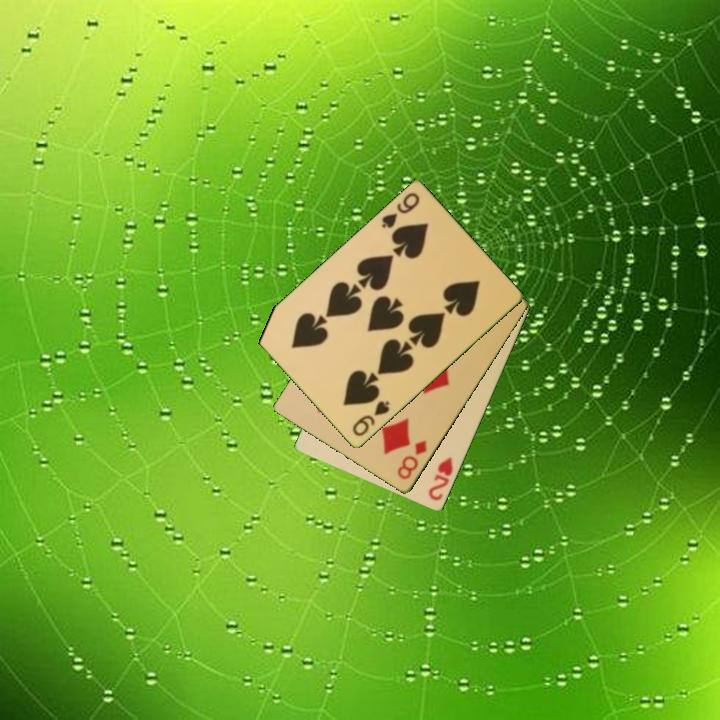2h: (425, 453, 456, 504)
8d: (394, 437, 430, 483)
9s: (378, 189, 423, 232), (349, 397, 393, 440)
